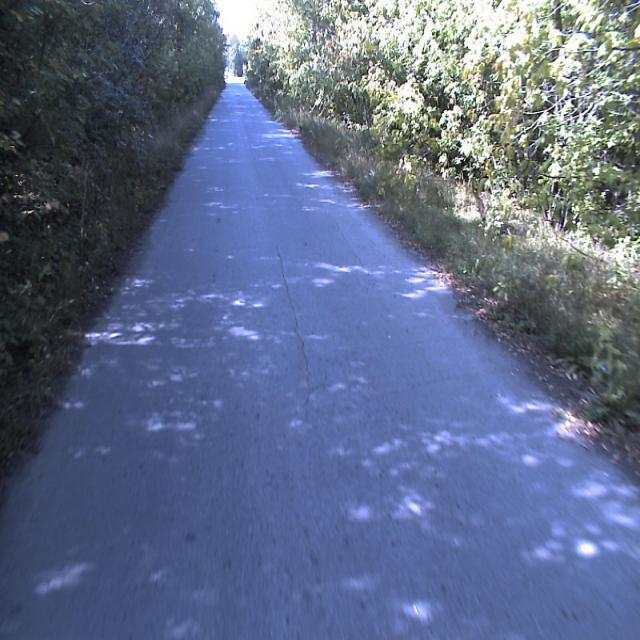road: (0, 77, 639, 639)
